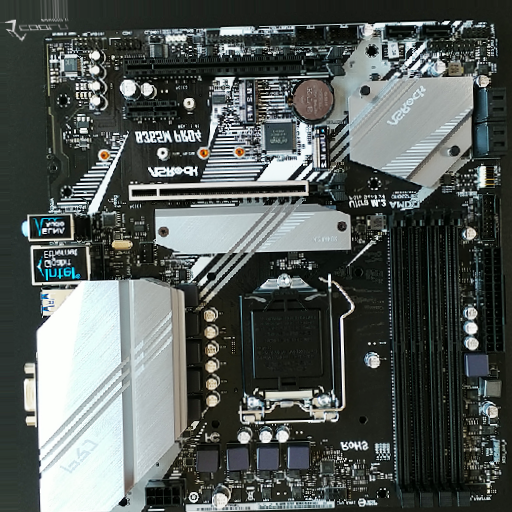CPU: (236, 270, 346, 426)
GPU: (127, 171, 347, 202), (118, 48, 345, 77)
MOTHERBOARD: (25, 21, 505, 509)
RAM: (388, 210, 474, 509)
SSD: (238, 77, 259, 126), (311, 127, 329, 172)
